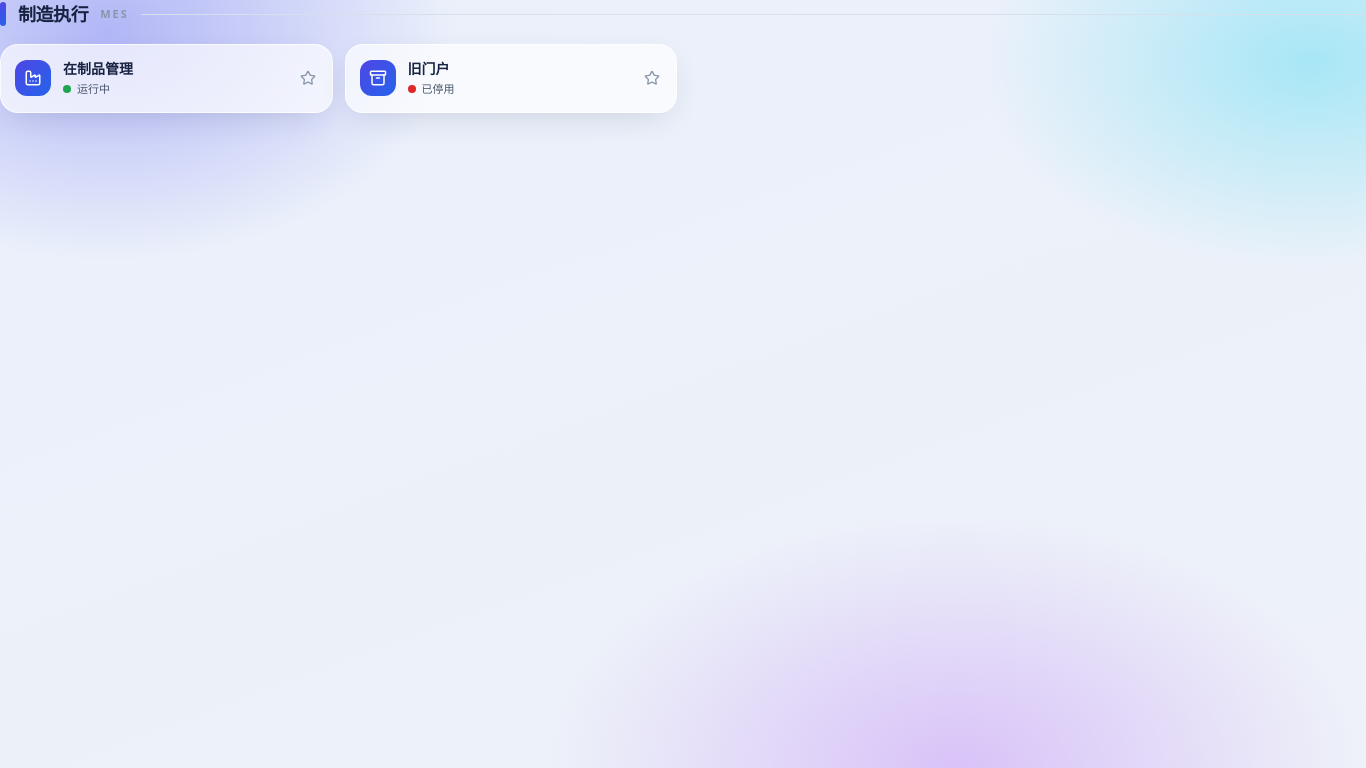
SystemGrid › 点击已停用系统弹出警告(拦截直接打开)
Click the link "旧门户 已停用": (511, 78) [344,44,677,112]
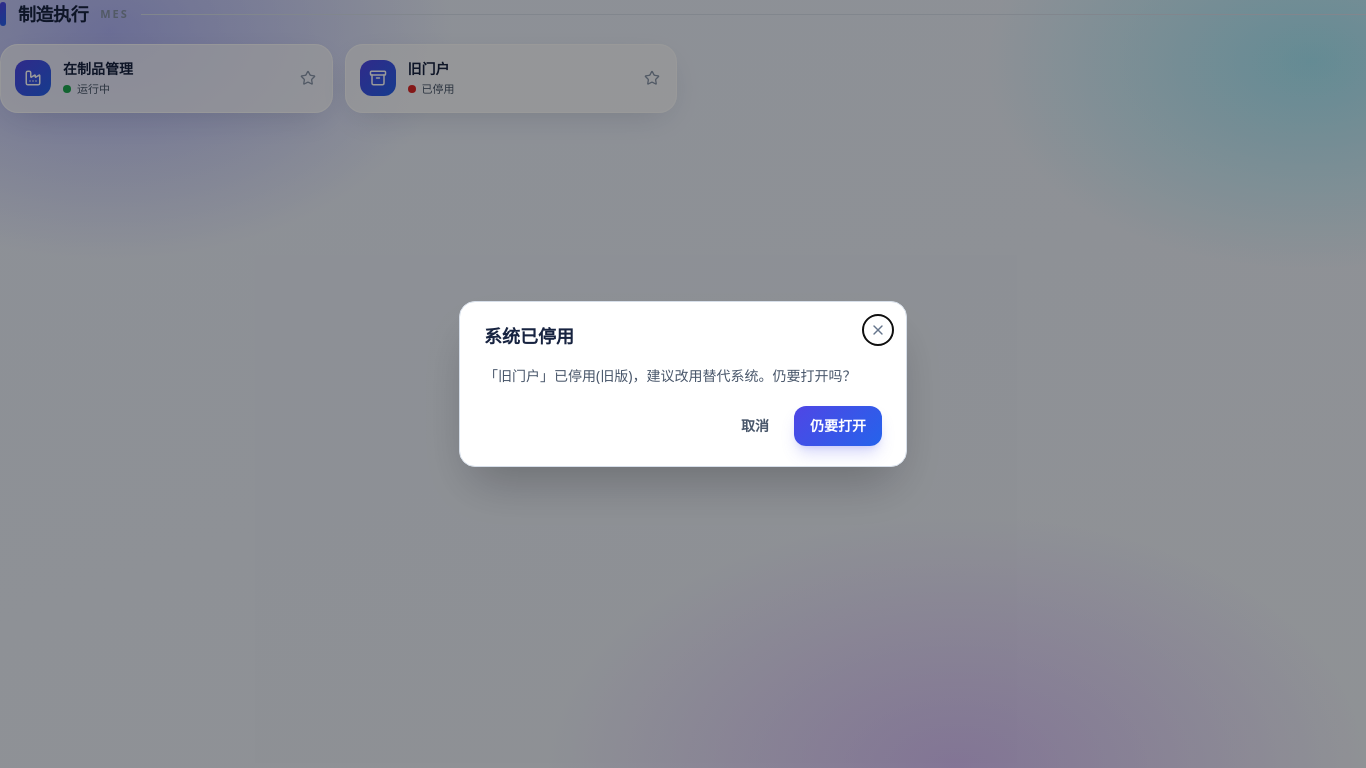
Expected: the text "已停用" is shown, [422,81,454,98]
Expected: the button "仍要打开" is shown, [794,406,882,446]
